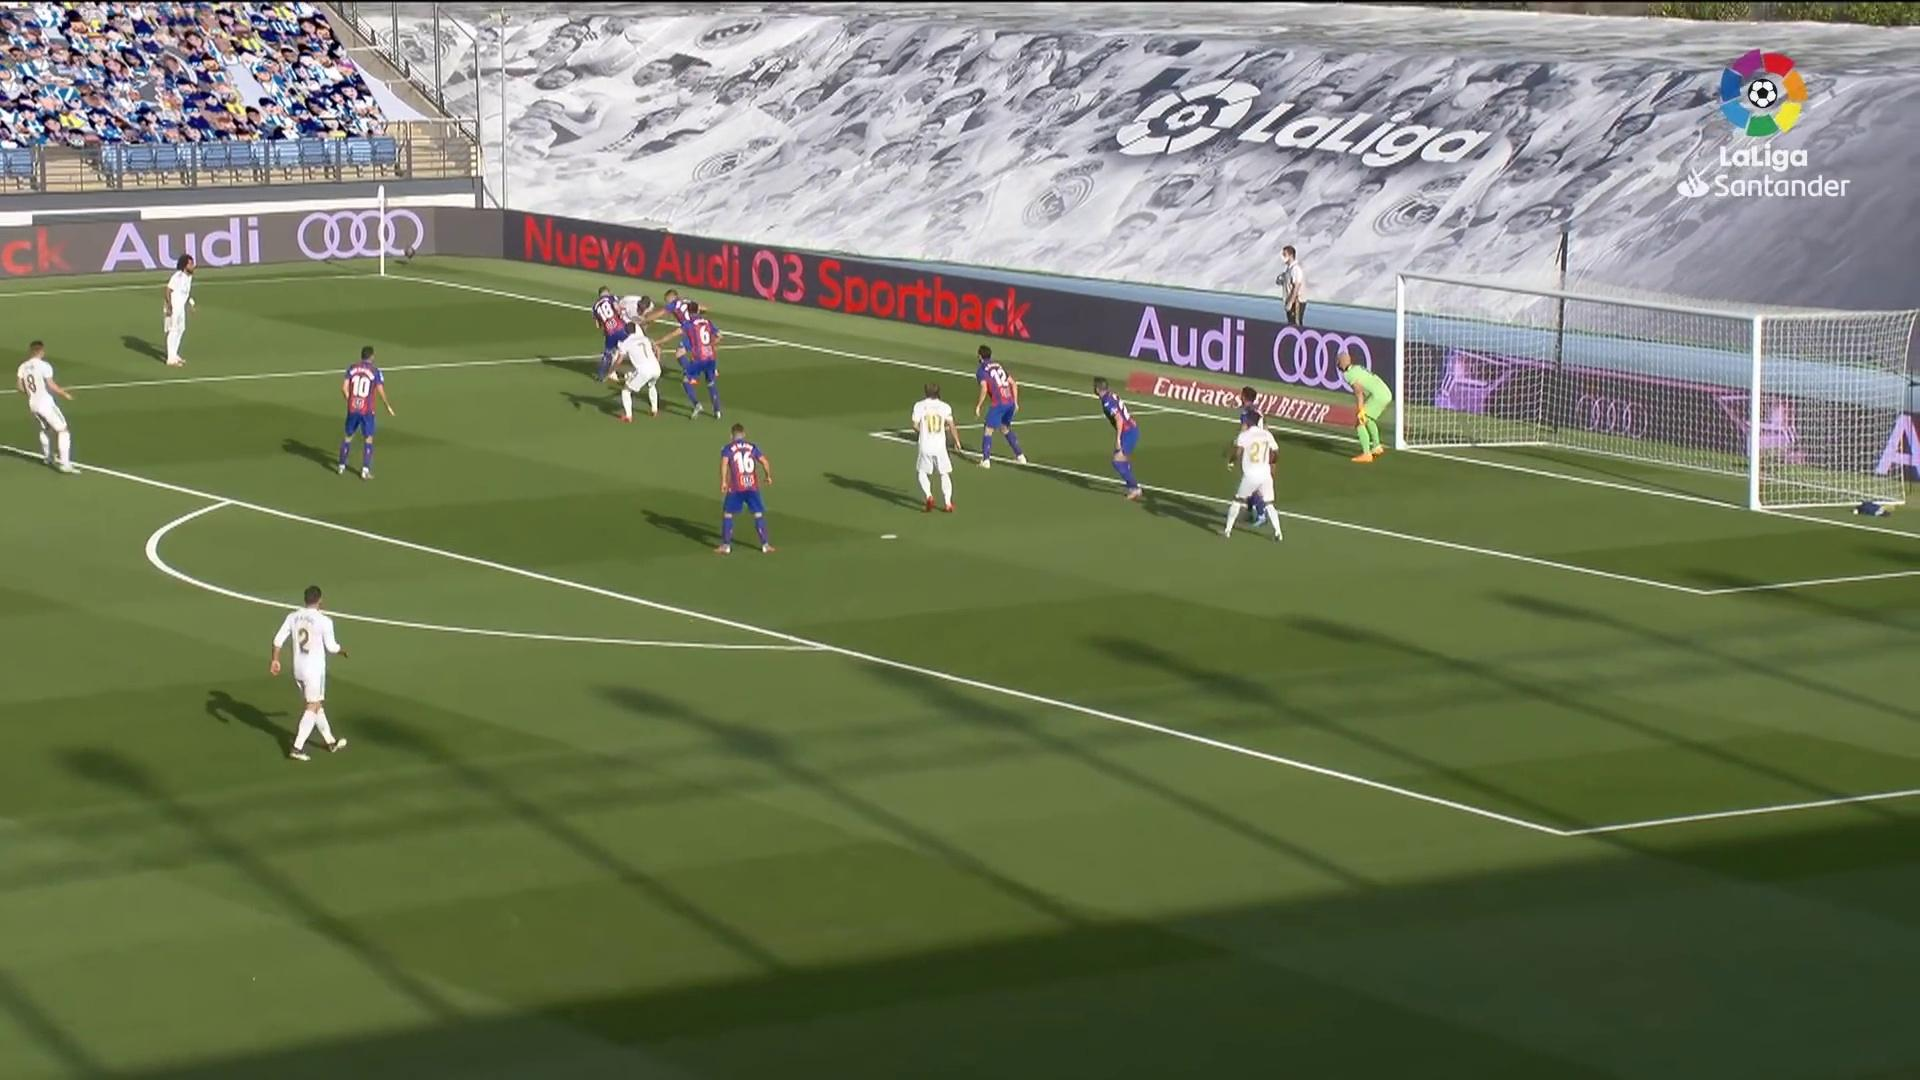ball: (622, 369, 637, 389)
goalkeeper: (1332, 349, 1396, 465)
player: (268, 580, 352, 763), (12, 337, 87, 480), (629, 284, 722, 390), (332, 342, 400, 484), (711, 421, 780, 559), (649, 301, 726, 423), (1088, 374, 1154, 503), (909, 379, 966, 518), (972, 341, 1029, 472), (602, 318, 665, 425), (589, 284, 649, 384), (160, 250, 203, 369), (608, 291, 660, 388)
